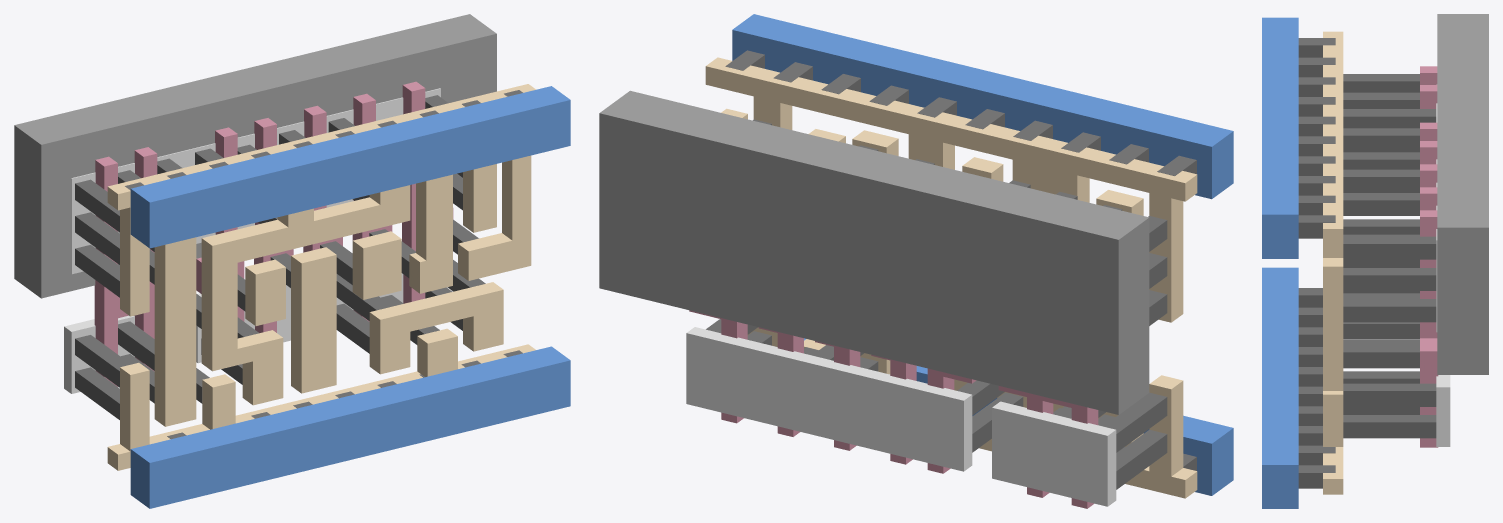
File: sky130_fd_sc_hd__o2111a_2.gds.gltf
3 views of the same model, side by side, from view 1: azimuth 30°, elevation 25°; view 2: azimuth 150°, elevation 25°; view 3: azimuth 270°, elevation 25° (orthographic). The views are drawn at different scales.
Parts seen in each view (by area): view 1: sky130_fd_sc_hd__o2111a_2_li1, sky130_fd_sc_hd__o2111a_2_met1, sky130_fd_sc_hd__o2111a_2_nwell, sky130_fd_sc_hd__o2111a_2_licon, sky130_fd_sc_hd__o2111a_2_poly, sky130_fd_sc_hd__o2111a_2_diff, sky130_fd_sc_hd__o2111a_2_mcon; view 2: sky130_fd_sc_hd__o2111a_2_nwell, sky130_fd_sc_hd__o2111a_2_diff, sky130_fd_sc_hd__o2111a_2_li1, sky130_fd_sc_hd__o2111a_2_met1, sky130_fd_sc_hd__o2111a_2_licon, sky130_fd_sc_hd__o2111a_2_mcon, sky130_fd_sc_hd__o2111a_2_poly; view 3: sky130_fd_sc_hd__o2111a_2_licon, sky130_fd_sc_hd__o2111a_2_nwell, sky130_fd_sc_hd__o2111a_2_met1, sky130_fd_sc_hd__o2111a_2_mcon, sky130_fd_sc_hd__o2111a_2_li1, sky130_fd_sc_hd__o2111a_2_poly, sky130_fd_sc_hd__o2111a_2_diff.
Part boxes in pixels (x1,y1,x2,y2): sky130_fd_sc_hd__o2111a_2_li1: [107, 84, 535, 470]; sky130_fd_sc_hd__o2111a_2_met1: [130, 86, 570, 508]; sky130_fd_sc_hd__o2111a_2_nwell: [14, 14, 496, 298]; sky130_fd_sc_hd__o2111a_2_licon: [75, 95, 485, 419]; sky130_fd_sc_hd__o2111a_2_poly: [94, 81, 453, 386]; sky130_fd_sc_hd__o2111a_2_diff: [64, 88, 440, 393]; sky130_fd_sc_hd__o2111a_2_mcon: [125, 90, 522, 439]; sky130_fd_sc_hd__o2111a_2_nwell: [599, 90, 1149, 414]; sky130_fd_sc_hd__o2111a_2_diff: [686, 327, 1116, 506]; sky130_fd_sc_hd__o2111a_2_li1: [705, 57, 1197, 498]; sky130_fd_sc_hd__o2111a_2_met1: [732, 14, 1233, 495]; sky130_fd_sc_hd__o2111a_2_licon: [706, 119, 1167, 489]; sky130_fd_sc_hd__o2111a_2_mcon: [725, 50, 1196, 470]; sky130_fd_sc_hd__o2111a_2_poly: [689, 310, 1098, 508]; sky130_fd_sc_hd__o2111a_2_licon: [1343, 74, 1436, 438]; sky130_fd_sc_hd__o2111a_2_nwell: [1437, 14, 1488, 374]; sky130_fd_sc_hd__o2111a_2_met1: [1262, 17, 1298, 508]; sky130_fd_sc_hd__o2111a_2_mcon: [1298, 38, 1335, 488]; sky130_fd_sc_hd__o2111a_2_li1: [1323, 31, 1343, 494]; sky130_fd_sc_hd__o2111a_2_poly: [1420, 66, 1438, 447]; sky130_fd_sc_hd__o2111a_2_diff: [1436, 84, 1450, 446].
Size of the model in its own units: 4.98 by 3.2 by 2.24.
